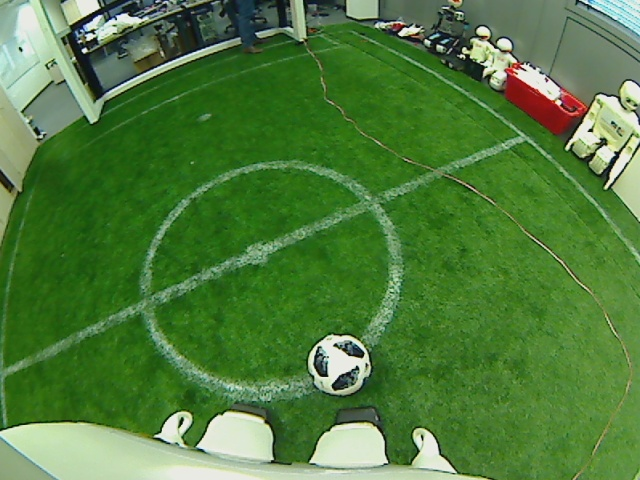ball: (305, 331, 372, 397)
